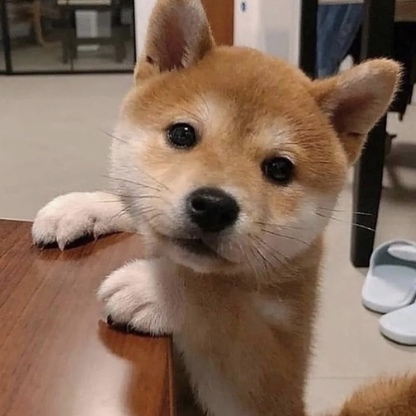shiba: (24, 1, 407, 416)
